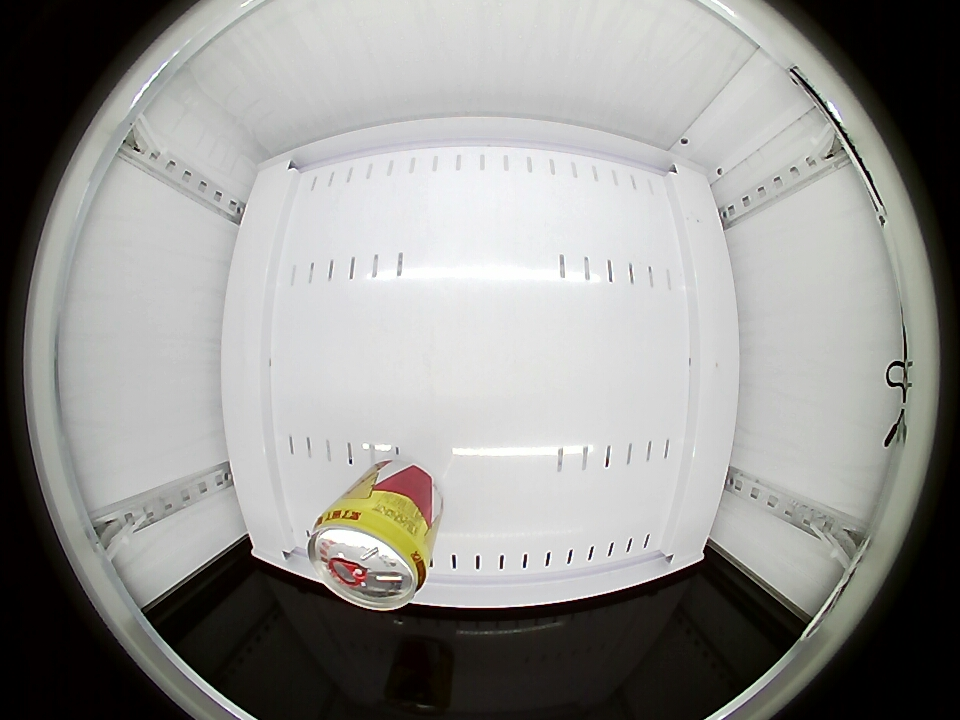dongpeng: (308, 504, 431, 611)
